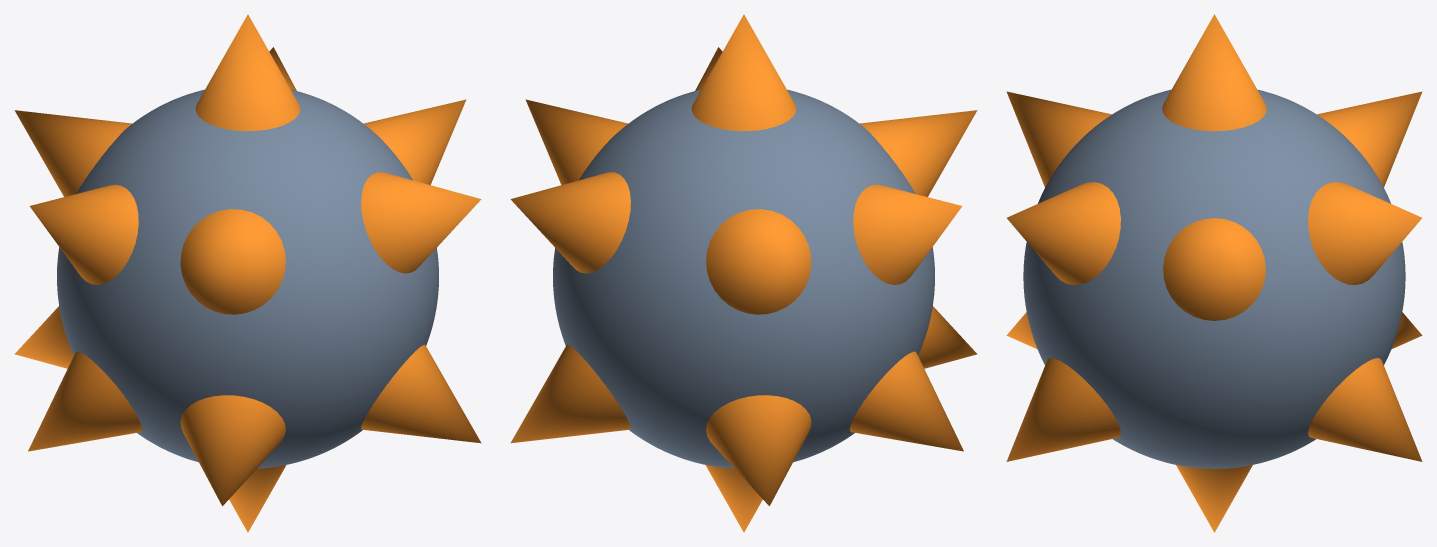
The model's file is spikeBall.fbx.
3 renders of one model, left to right at view 1: azimuth 30°, elevation 25°; view 2: azimuth 150°, elevation 25°; view 3: azimuth 270°, elevation 25°, orthographic.
Visible parts, largest first — view 1: ball; view 2: ball; view 3: ball.
Boxes of the visible parts, x1,y1,x2,y2 form: ball: (14,14,481,532); ball: (510,14,977,532); ball: (1006,14,1422,532).
Bounding box in the file's own units: 33.93 × 38.35 × 27.87.
